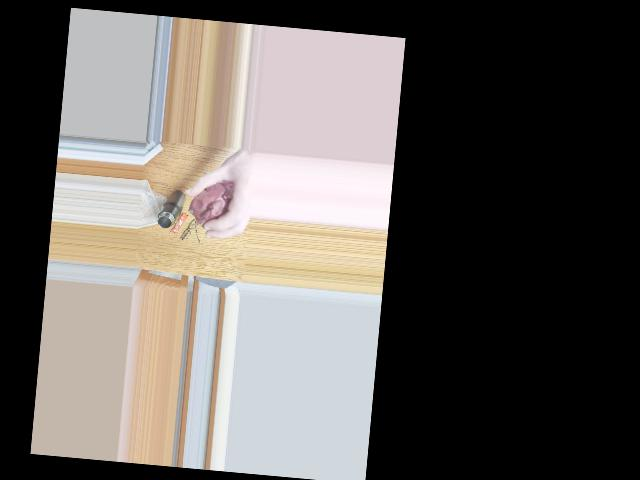onion: (193, 178, 234, 230)
